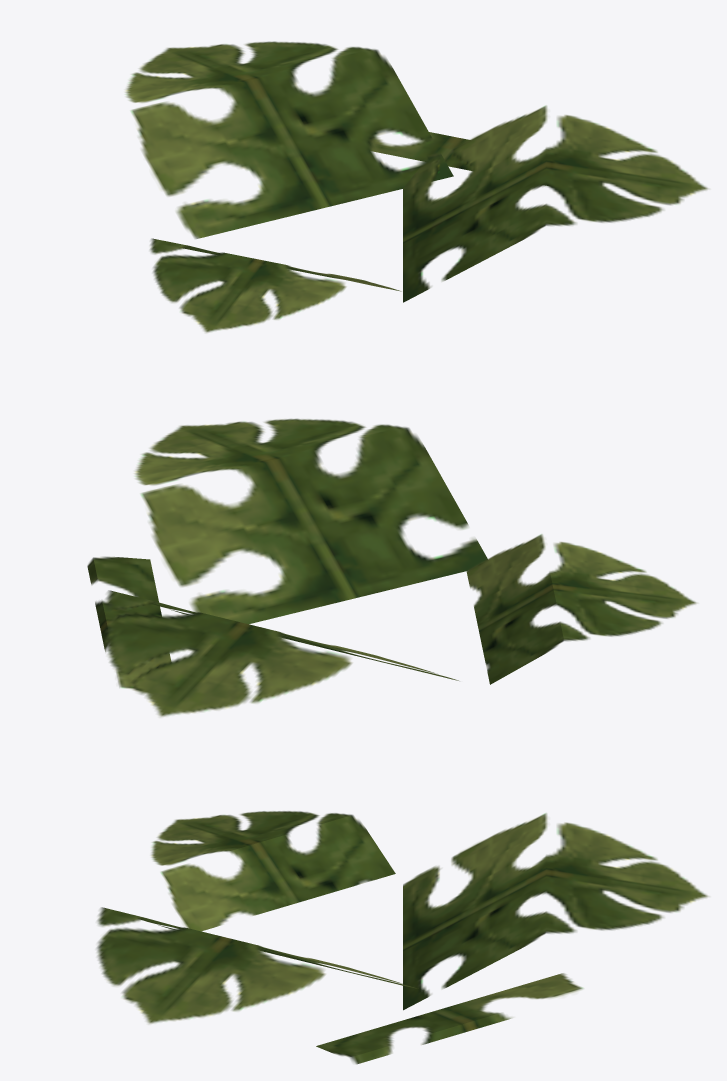
File: lp_bush_b_high.glb
The picture shows the model from 3 angles, top to bottom: view 1: azimuth 30°, elevation 25°; view 2: azimuth 150°, elevation 25°; view 3: azimuth 270°, elevation 25°; orthographic projection. The views are drawn at different scales.
Parts seen in each view (by area): view 1: lp_bush_b_high; view 2: lp_bush_b_high; view 3: lp_bush_b_high.
Part boxes in pixels (box(x1,y1,x2,y2)): lp_bush_b_high: box(125, 41, 708, 332); lp_bush_b_high: box(87, 418, 696, 716); lp_bush_b_high: box(96, 811, 708, 1064).
Bounding box in the file's own units: 0.8296 × 0.0939 × 0.7926.
1 material, 1 textured.
